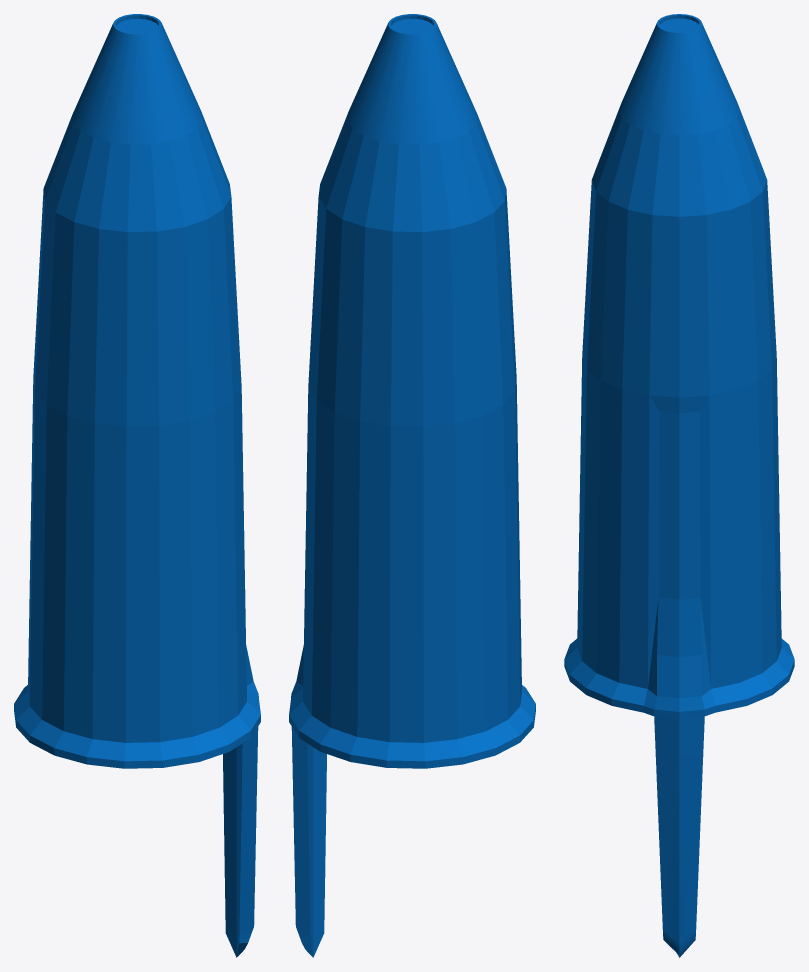
File: pen1 cap.fbx
The picture shows the model from 3 angles, left to right: view 1: azimuth 30°, elevation 25°; view 2: azimuth 150°, elevation 25°; view 3: azimuth 270°, elevation 25°; orthographic projection. The views are drawn at different scales.
Parts seen in each view (by area): view 1: pCylinder10; view 2: pCylinder10; view 3: pCylinder10.
Boxes of the visible parts, x1,y1,x2,y2 form: pCylinder10: (14,14,260,957); pCylinder10: (289,14,535,957); pCylinder10: (564,14,794,957).
Bounding box in the file's own units: 1.17 × 4.87 × 1.14.
